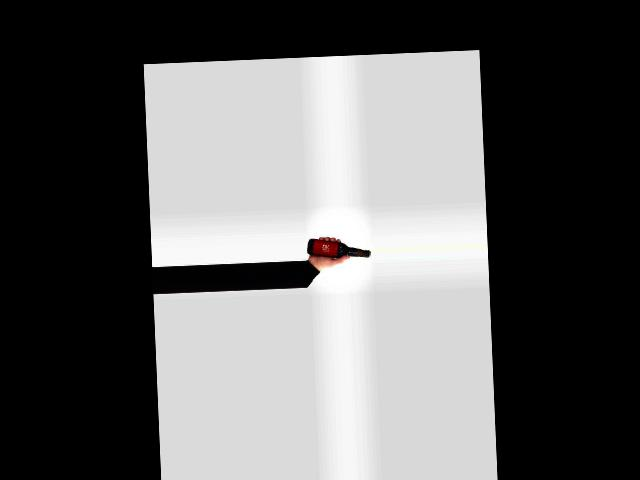beer: (306, 235, 371, 260)
